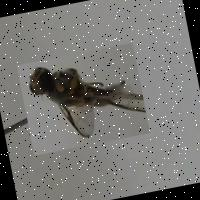Oriental-fruit-fly: (17, 43, 150, 156)
